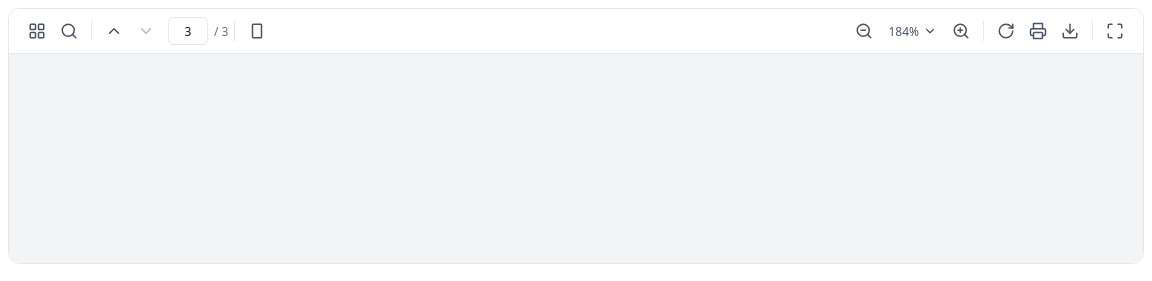
PdfViewer › search panel › opens and closes from the toolbar
Expected: the element with class "rpp-toolbar" is shown, [9,9,1143,54]
Click the button named "Search".
click(69, 31)  # box [53,15,85,47]
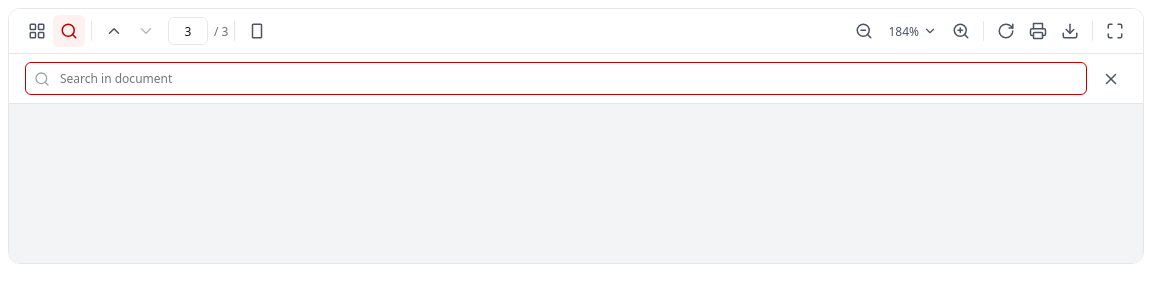
Now the element with class "rpp-search-panel" is shown, box [9,53,1143,103]
Click the button named "Search".
click(69, 31)  # box [53,15,85,47]
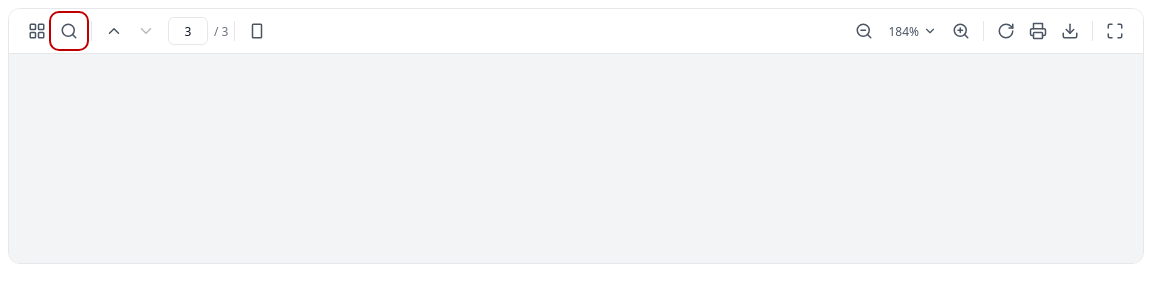
Now the element with class "rpp-search-panel" is gone
